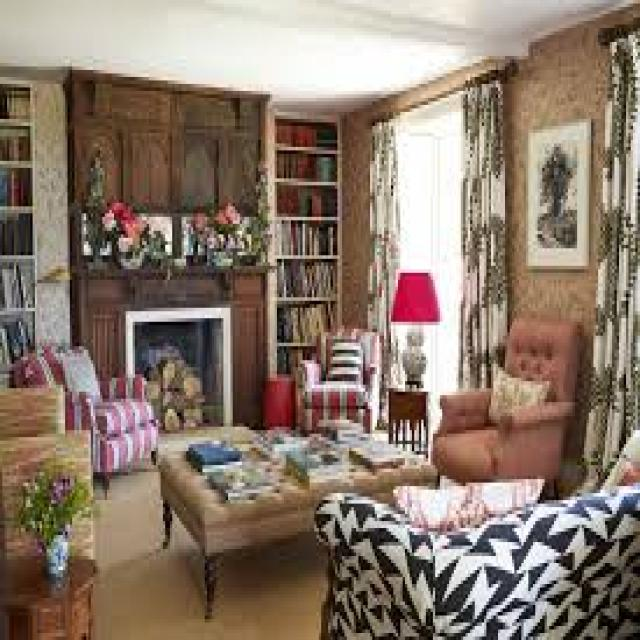Chair: (445, 306, 584, 496), (17, 343, 161, 474), (286, 301, 381, 427)
Lamp: (390, 263, 435, 367)
Sofa: (291, 458, 640, 640)
Table: (158, 432, 436, 596), (382, 374, 432, 448)
